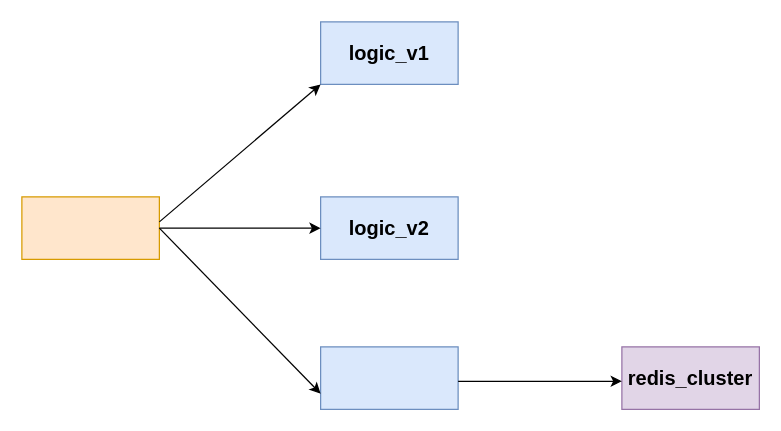
Image size: 781x431. Some labels were removed from this diagram. The centre of each missing label's shape, as x and y in pixels:
gateway: the point at 90,227
logic_v3: the point at 388,377
